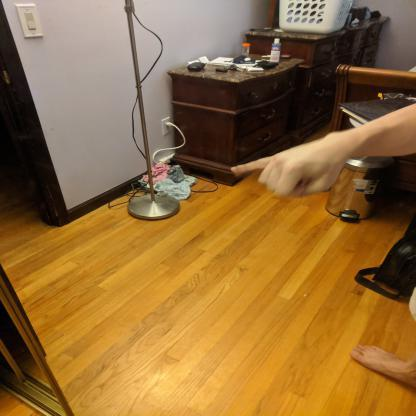J: (229, 128, 358, 203)
